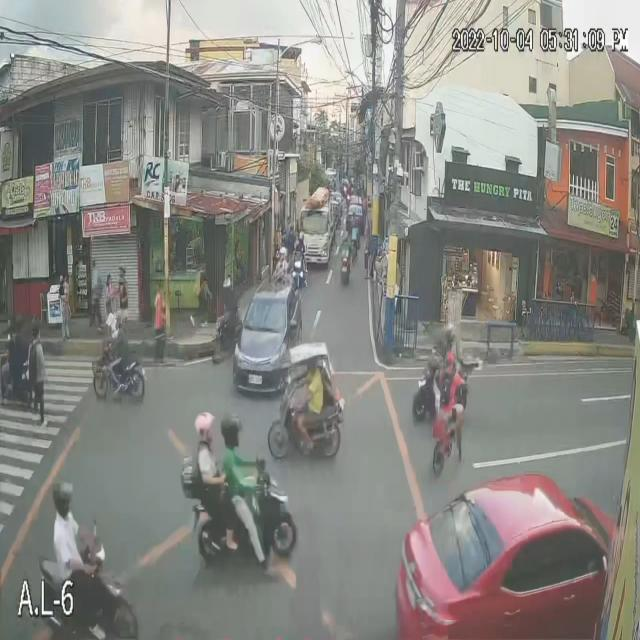Full-Faced: (46, 474, 74, 522), (432, 319, 456, 349), (221, 411, 240, 447), (197, 410, 214, 441), (116, 307, 128, 331), (221, 272, 234, 294), (106, 313, 116, 334), (277, 245, 288, 263), (295, 228, 306, 246), (349, 209, 359, 225), (342, 230, 351, 244)
Invalid: (440, 354, 457, 383)
